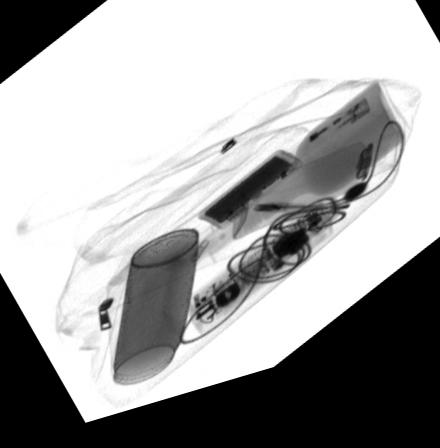Lighter: (298, 119, 368, 174)
Powerbank: (197, 164, 305, 242)
Sprayer: (231, 154, 396, 251)
